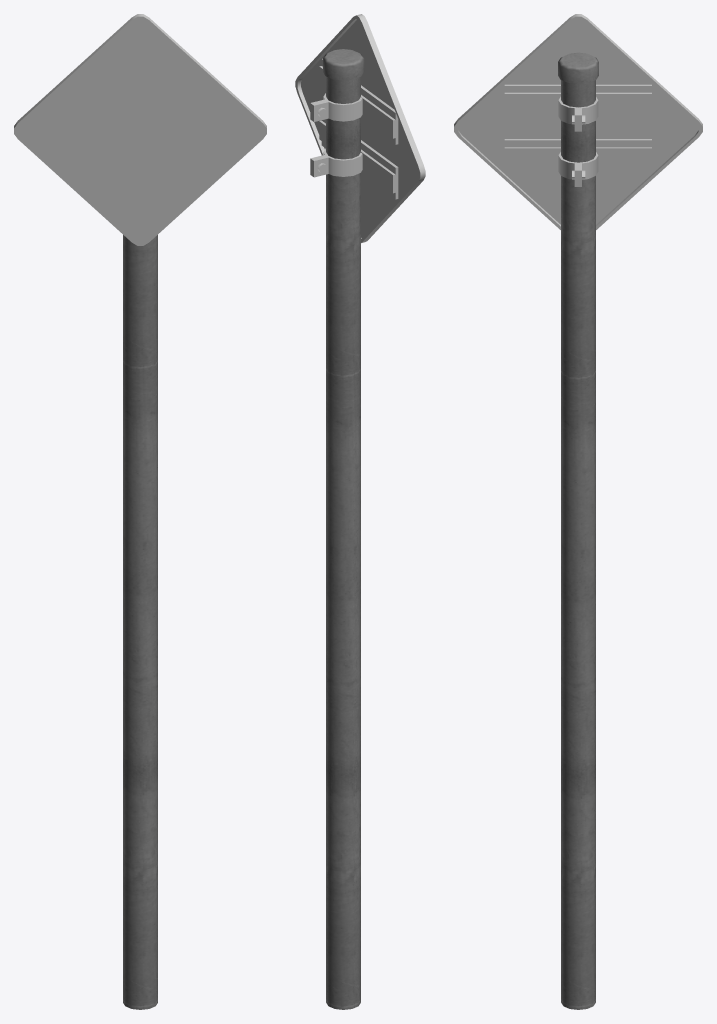
File: SM_DiamondPole.fbx
The picture shows the model from 3 angles, left to right: view 1: azimuth 90°, elevation 25°; view 2: azimuth 210°, elevation 25°; view 3: azimuth 270°, elevation 25°; orthographic projection.
Parts seen in each view (by area): view 1: SM_DiamondPole_LOD0; view 2: SM_DiamondPole_LOD0; view 3: SM_DiamondPole_LOD0.
Part boxes in pixels (x1,y1,x2,y2): SM_DiamondPole_LOD0: (14,14,266,1009); SM_DiamondPole_LOD0: (295,14,425,1009); SM_DiamondPole_LOD0: (454,14,702,1009).
Size of the model in its own units: 14.11 by 59.86 by 260.
